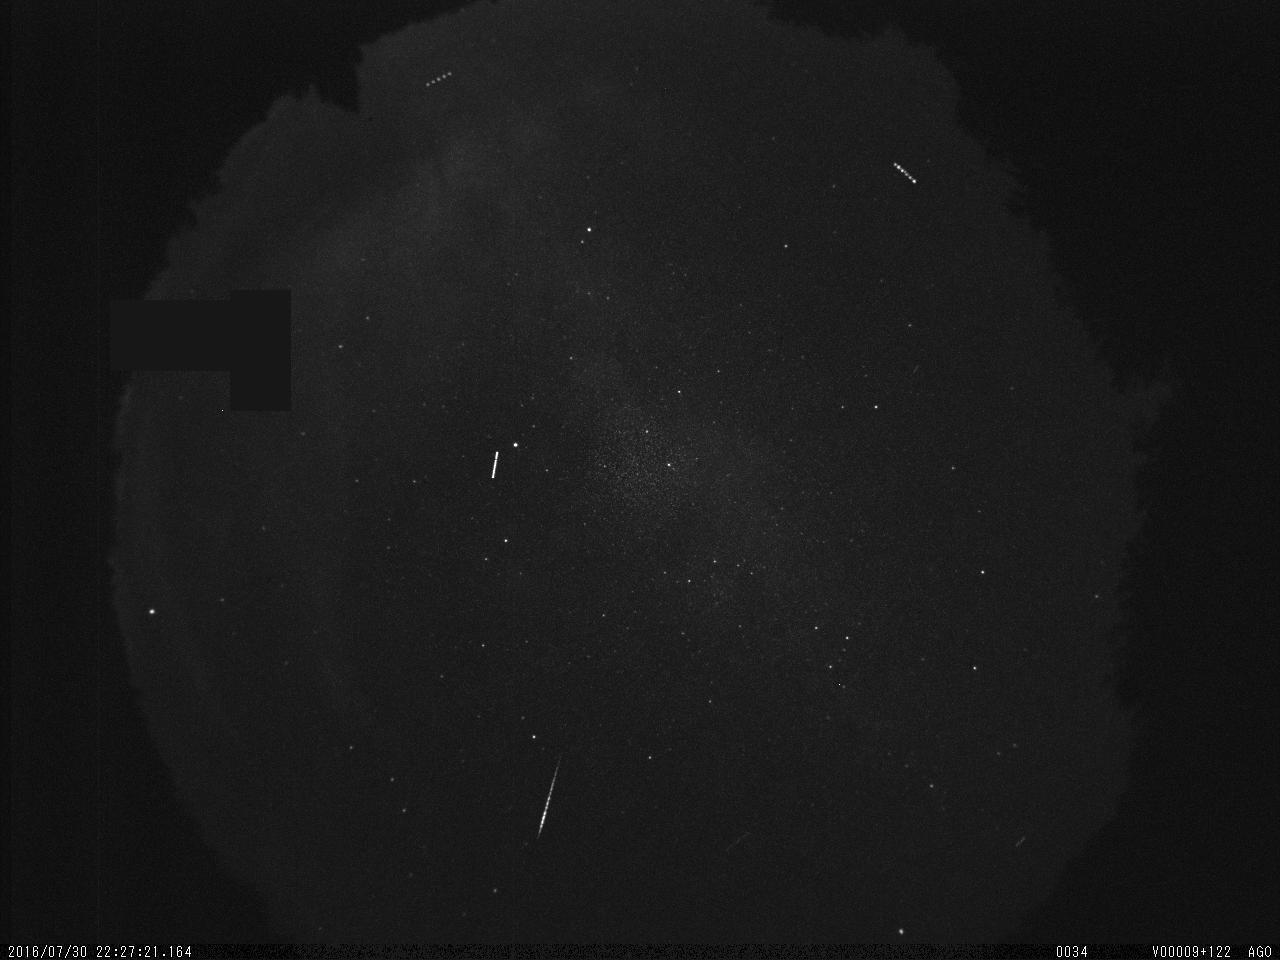meteor: (529, 752, 567, 846)
satelite: (891, 153, 924, 191), (421, 64, 458, 93), (484, 443, 502, 487)
